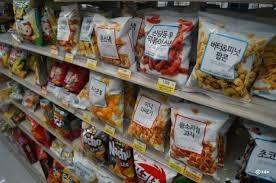snack: (182, 11, 276, 107), (167, 99, 231, 180), (140, 10, 200, 84), (92, 14, 137, 75)
